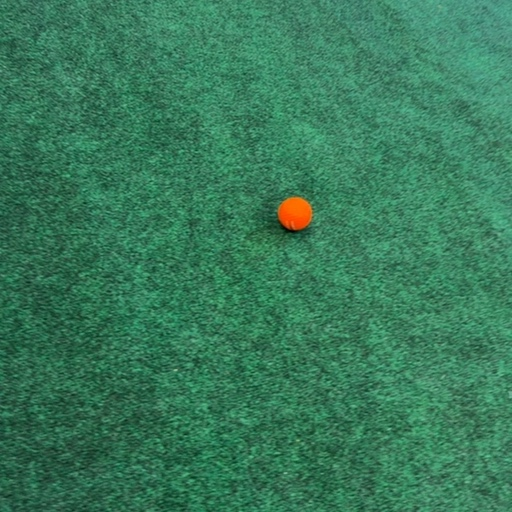Ball: (278, 197, 311, 230)
